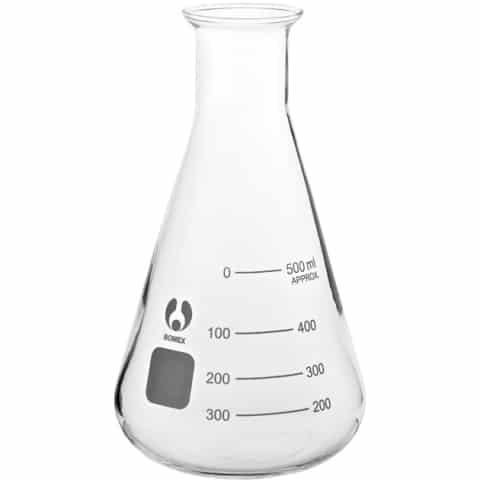Titrarion: (99, 0, 368, 470)
